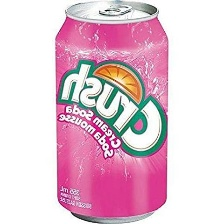can: (50, 1, 170, 224)
